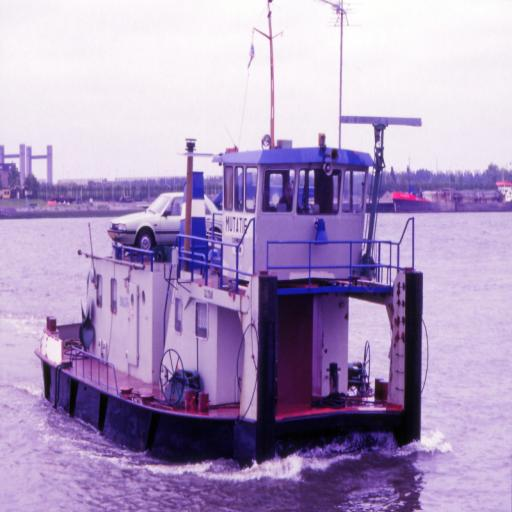tugboat: (32, 113, 430, 474)
